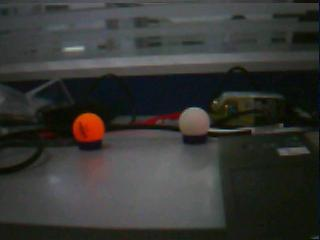oball: (73, 113, 104, 143)
